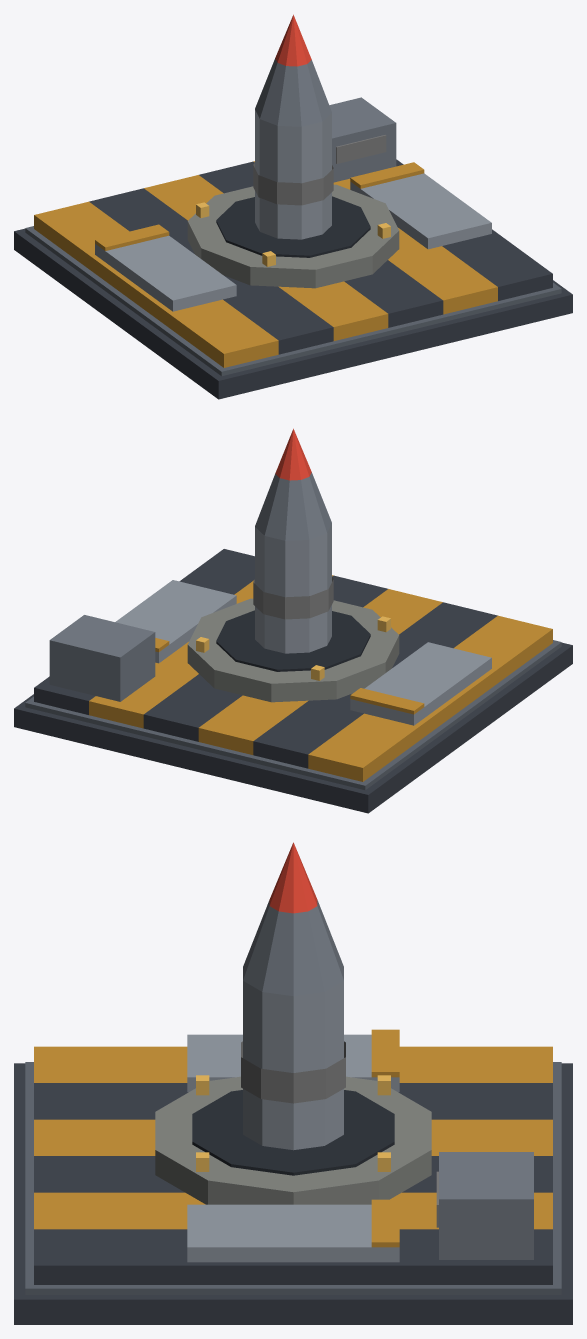
Rendered from missile-silo.obj.
The picture shows the model from 3 angles, top to bottom: view 1: azimuth 30°, elevation 25°; view 2: azimuth 150°, elevation 25°; view 3: azimuth 270°, elevation 25°; orthographic projection. The views are drawn at different scales.
Visible parts, largest first — view 1: missile-silo; view 2: missile-silo; view 3: missile-silo.
Part boxes in pixels (bbox=[...]): missile-silo: bbox=[14, 14, 572, 399]; missile-silo: bbox=[14, 428, 572, 813]; missile-silo: bbox=[14, 842, 572, 1324].
Bounding box in the file's own units: 10 × 7.2 × 10.
